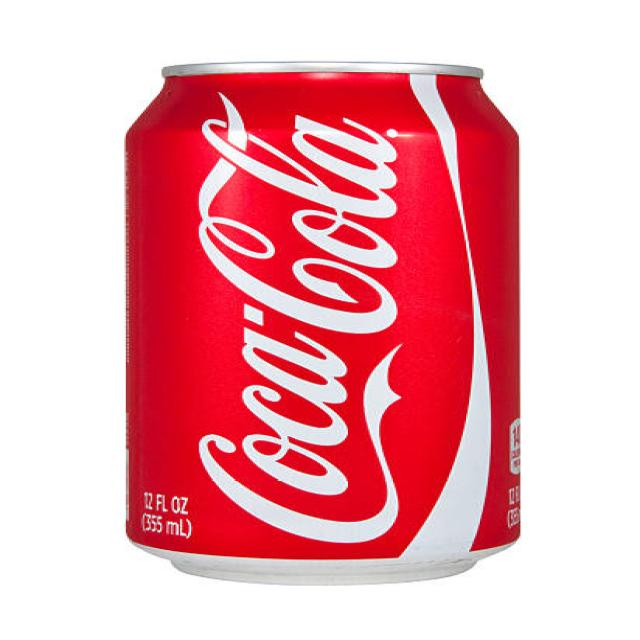aluminum_can: (126, 62, 520, 585)
